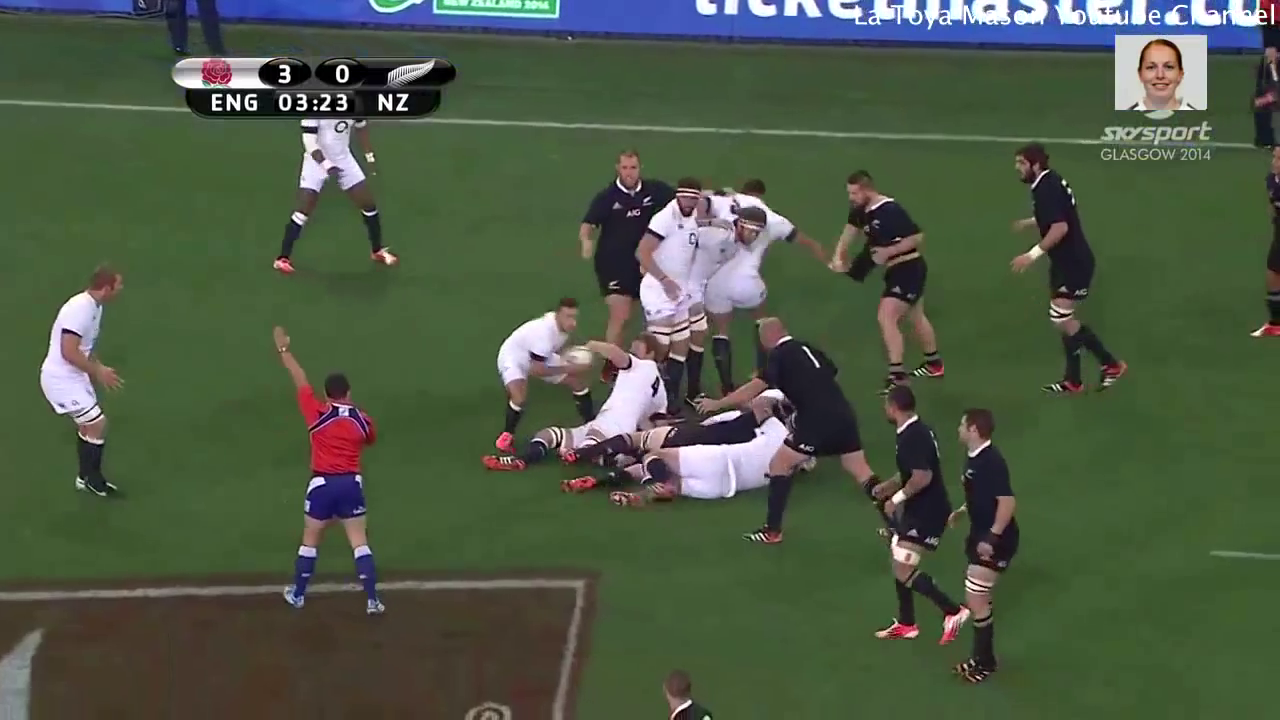ball: (549, 327, 609, 387)
player: (683, 306, 895, 556), (982, 125, 1131, 406), (262, 320, 395, 628), (849, 376, 985, 652), (818, 164, 956, 402), (702, 164, 846, 388), (937, 396, 1036, 695), (28, 257, 140, 511), (564, 402, 831, 507), (261, 120, 404, 286), (518, 327, 682, 465), (563, 140, 669, 353), (488, 295, 604, 462), (545, 388, 813, 459), (629, 172, 706, 385), (694, 198, 770, 300)
